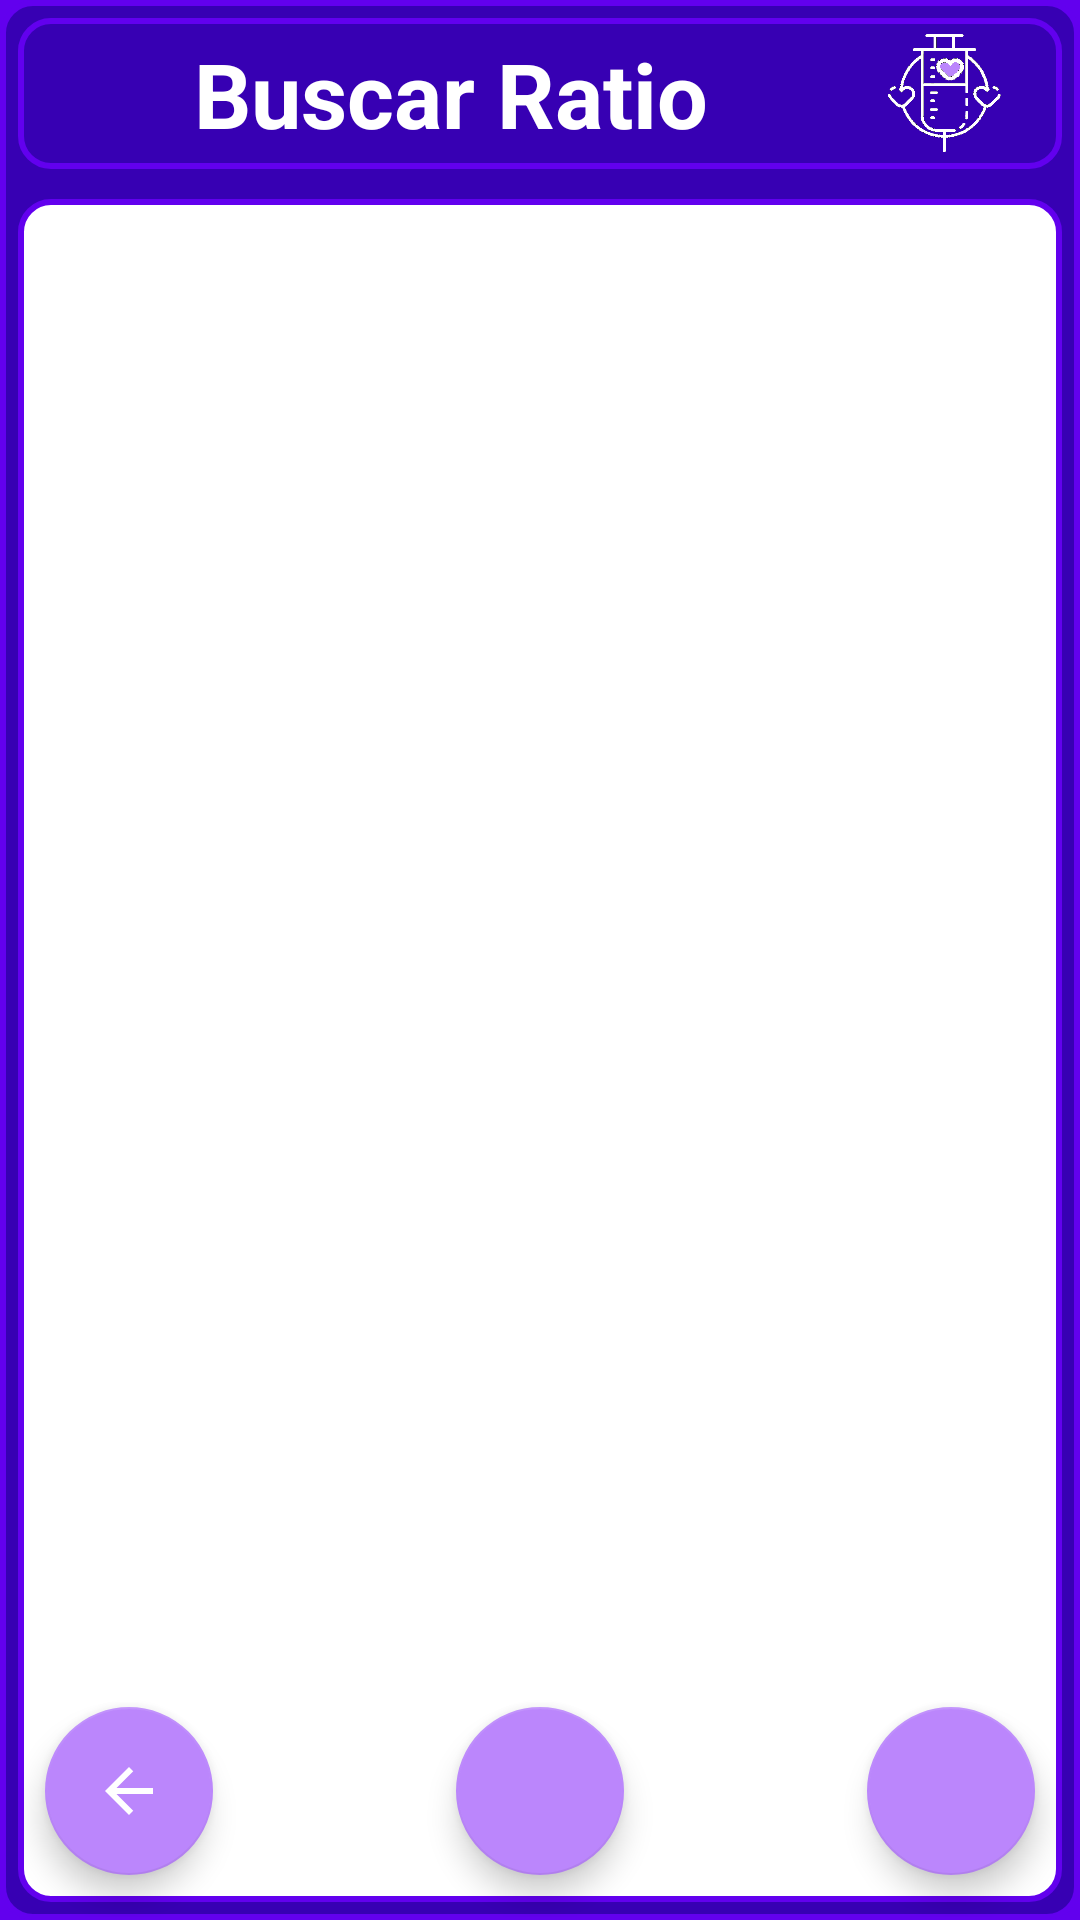

Icon bounding boxes for this 1080px x 1920px phone screenshot, format (x1, y1, x2, y2):
insulina contraste: (888, 34, 1001, 152)
